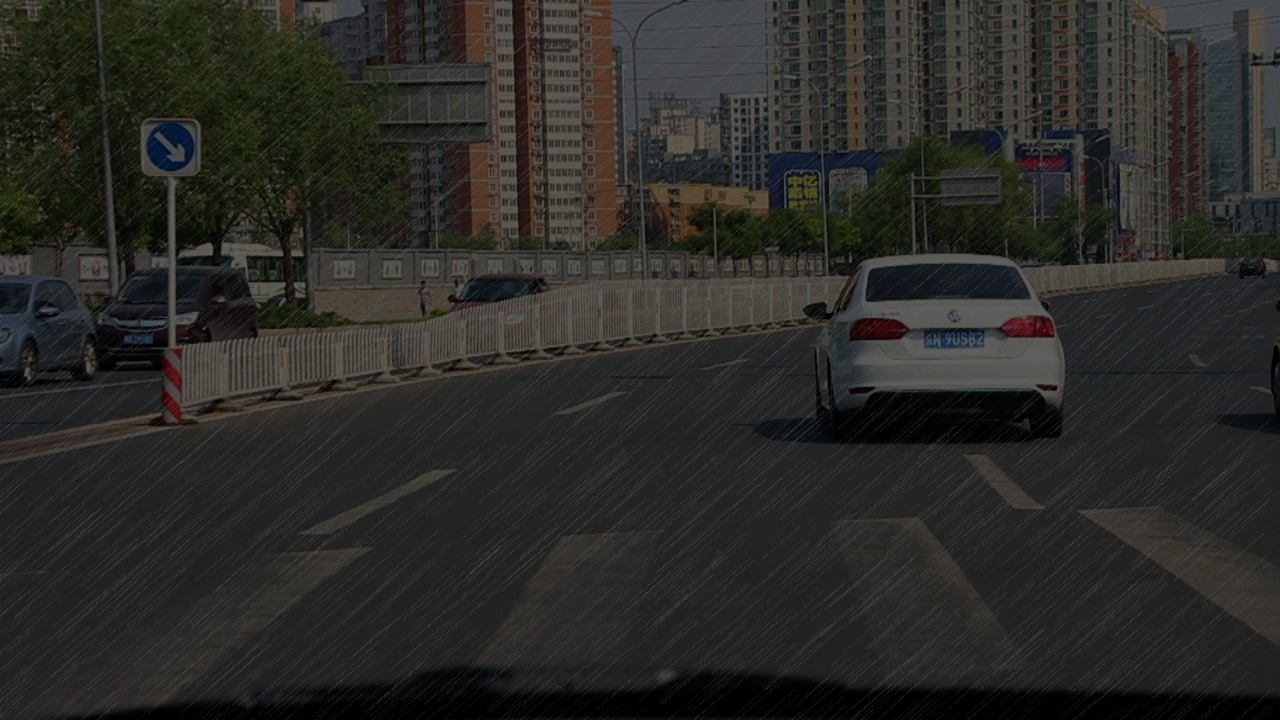Informative Signs: (145, 121, 195, 173)
